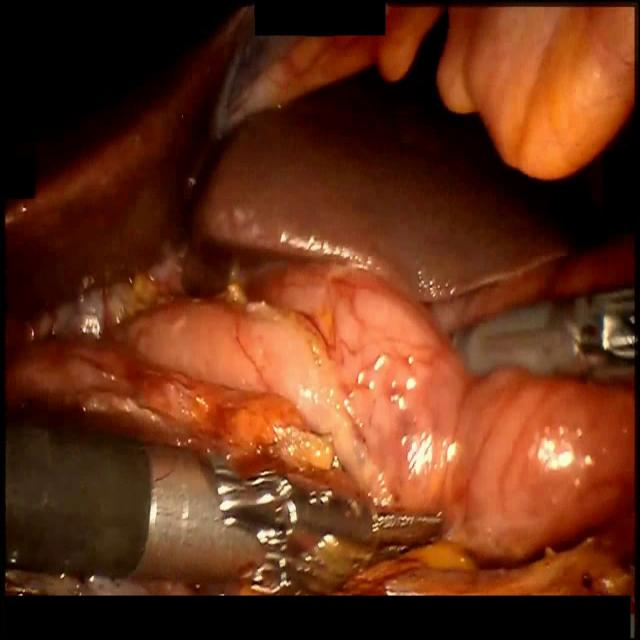surgical-area: (0, 0, 640, 596), (0, 570, 248, 595)
surgical-tool: (0, 418, 454, 594), (435, 286, 638, 381)
